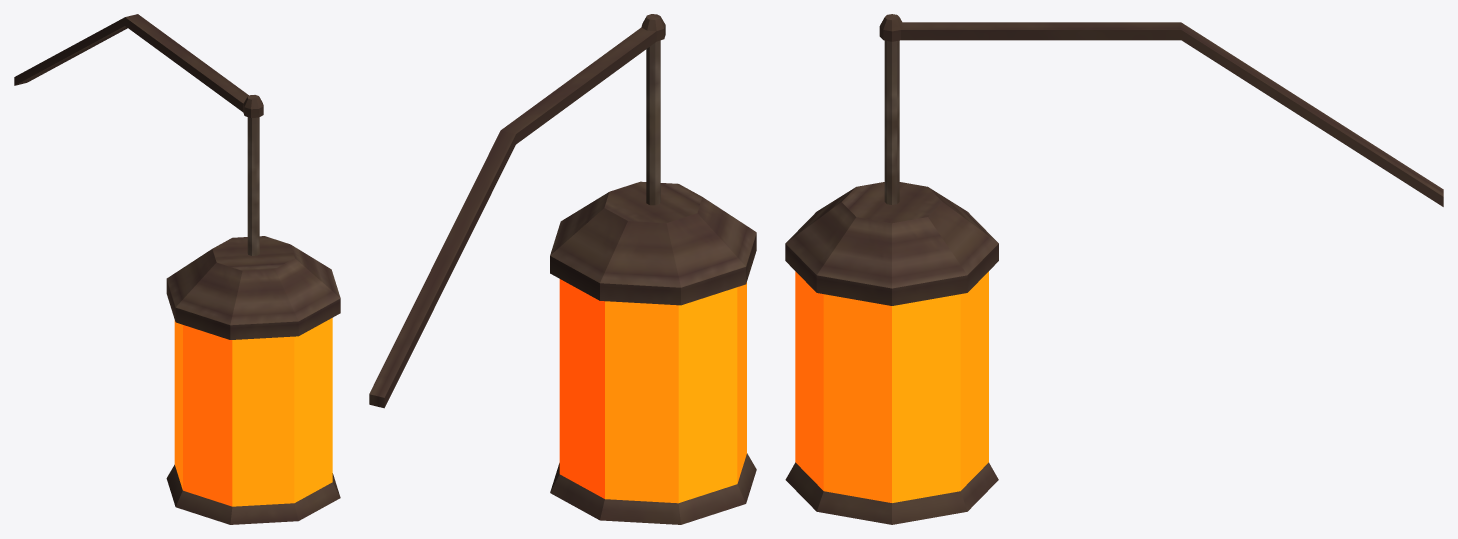
Rendered from SM_ShopkeeperLantern.fbx.
3 views of the same model, side by side, from view 1: azimuth 30°, elevation 25°; view 2: azimuth 150°, elevation 25°; view 3: azimuth 270°, elevation 25° (orthographic). The views are drawn at different scales.
Parts seen in each view (by area): view 1: Cylinder.019; view 2: Cylinder.019; view 3: Cylinder.019.
Part boxes in pixels (box(x1,y1,x2,y2)): Cylinder.019: box(14, 14, 340, 524); Cylinder.019: box(369, 14, 756, 524); Cylinder.019: box(785, 14, 1443, 524).
Bounding box in the file's own units: 75.05 × 180 × 231.
